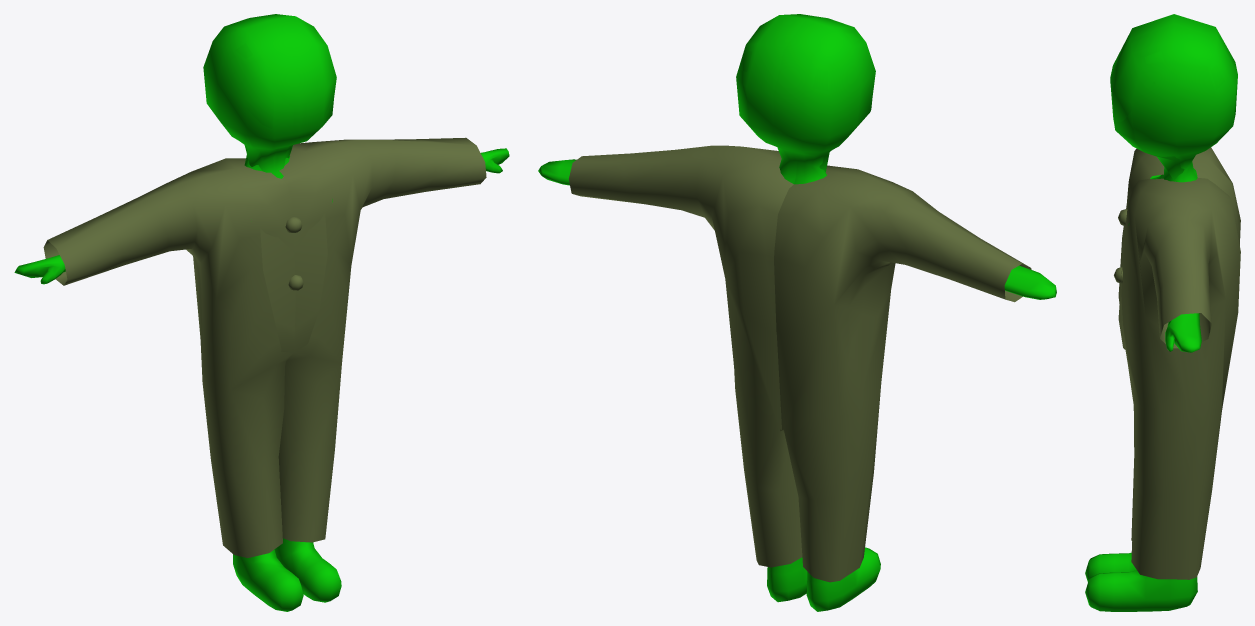
Rendered from asker5.fbx.
3 views of the same model, side by side, from view 1: azimuth 30°, elevation 25°; view 2: azimuth 150°, elevation 25°; view 3: azimuth 270°, elevation 25° (orthographic). The views are drawn at different scales.
Parts seen in each view (by area): view 1: character; view 2: character; view 3: character.
Part boxes in pixels (left/top/right/bottom): character: left=14, top=14, right=509, bottom=611; character: left=538, top=14, right=1056, bottom=611; character: left=1085, top=14, right=1240, bottom=611.
Bounding box in the file's own units: 1056 × 1146 × 281.
